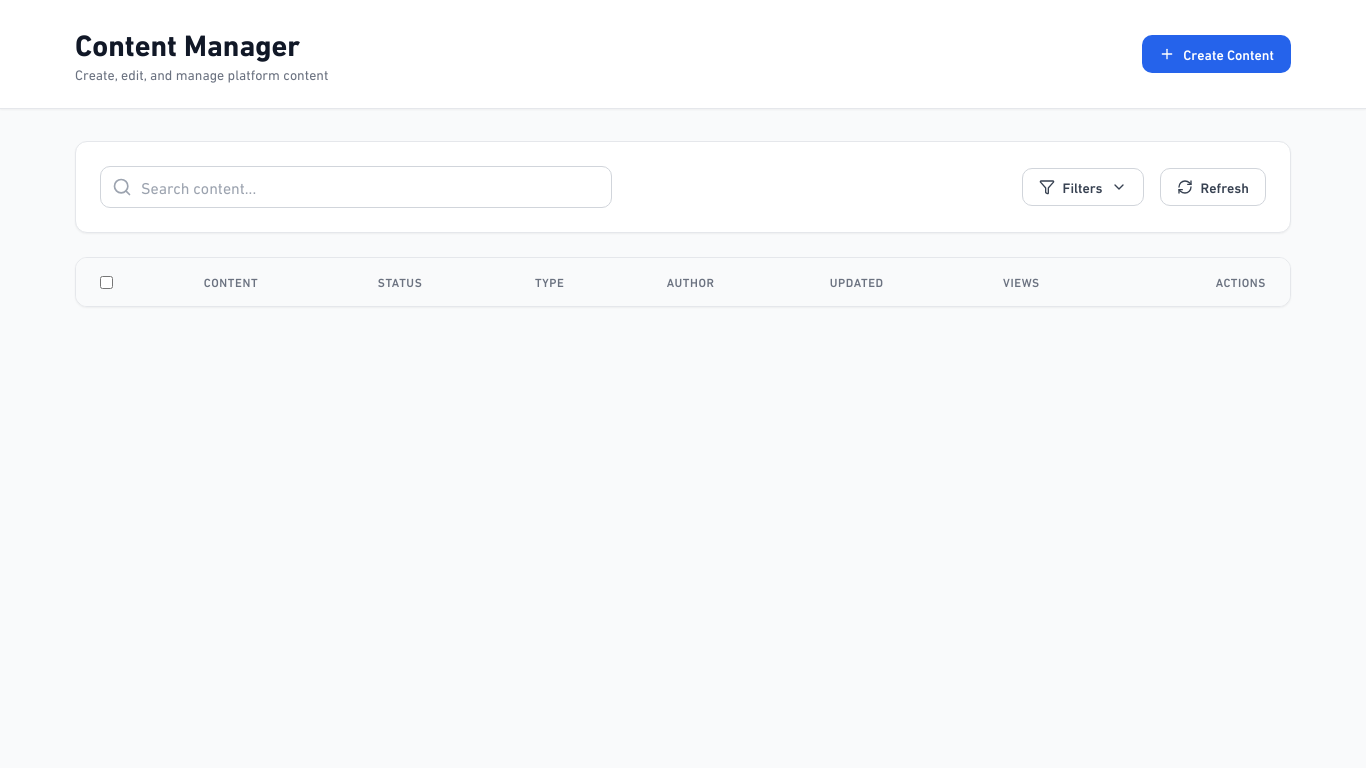
Test case: Administrator Persona Frontend Components › ContentManager › opens create content modal on button click
Click the button "Create Content". click: click(1217, 54)
box: [1142,35,1291,73]
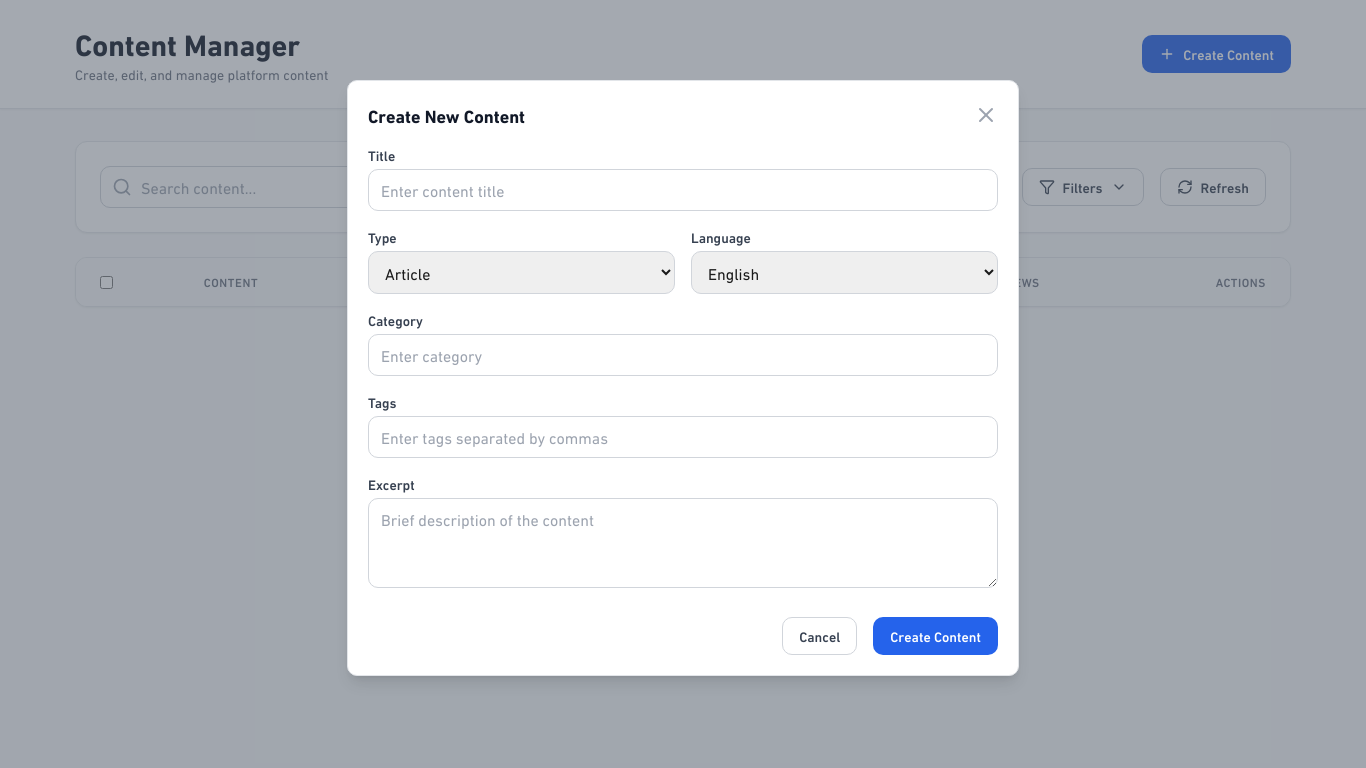
Result: the heading "Create New Content" is shown at [368,101,525,129]
